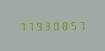eight: (62, 19, 70, 30)
five: (71, 19, 79, 30)
nine: (35, 20, 43, 31)
seven: (17, 20, 25, 31), (26, 20, 34, 31), (80, 19, 88, 30)
three: (44, 20, 52, 31)
zero: (53, 19, 61, 30)
